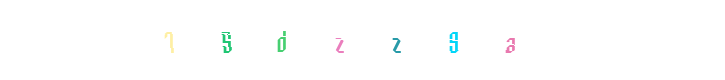5: (214, 0, 294, 80)
7: (130, 0, 210, 80)
9: (401, 0, 481, 80)
A: (414, 0, 494, 80)
D: (286, 0, 366, 80)
Z: (322, 0, 402, 80), (356, 0, 436, 80)
